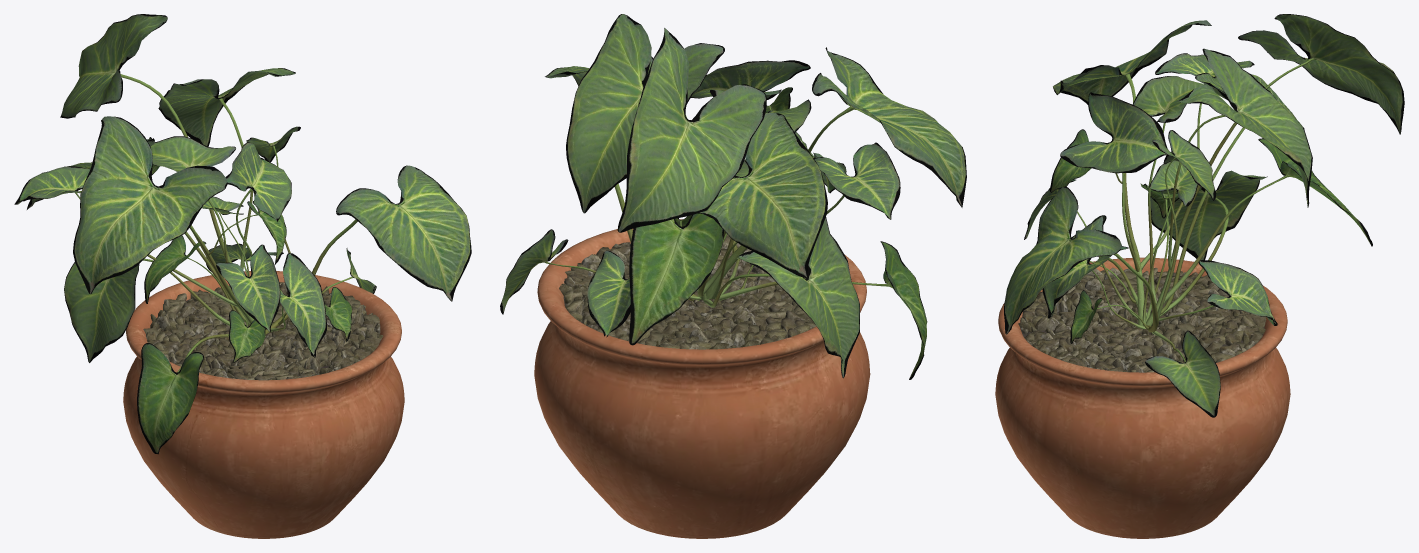
The model's file is plant-monstera.glb.
3 renders of one model, left to right at view 1: azimuth 30°, elevation 25°; view 2: azimuth 150°, elevation 25°; view 3: azimuth 270°, elevation 25°, orthographic. The views are drawn at different scales.
Parts seen in each view (by area): view 1: potted_plant_02_leaves, potted_plant_02_pot, potted_plant_02_dirt; view 2: potted_plant_02_leaves, potted_plant_02_pot, potted_plant_02_dirt; view 3: potted_plant_02_leaves, potted_plant_02_pot, potted_plant_02_dirt.
Part boxes in pixels (box(x1,y1,x2,y2)): potted_plant_02_leaves: box(14, 14, 471, 454); potted_plant_02_pot: box(123, 271, 404, 538); potted_plant_02_dirt: box(143, 282, 383, 380); potted_plant_02_leaves: box(500, 14, 966, 379); potted_plant_02_pot: box(534, 219, 870, 538); potted_plant_02_dirt: box(559, 234, 816, 349); potted_plant_02_leaves: box(1004, 14, 1404, 417); potted_plant_02_pot: box(995, 257, 1290, 538); potted_plant_02_dirt: box(1018, 267, 1266, 372).
Bounding box in the file's own units: 0.7012 × 0.8412 × 0.6574.
Materials: 2 (2 with a texture image).
